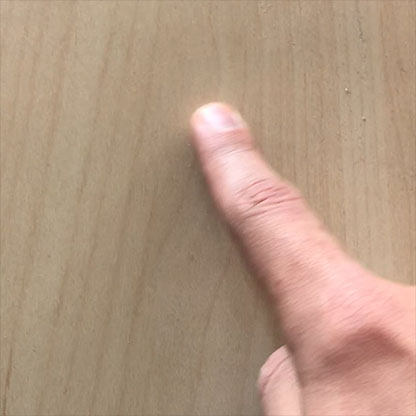fingertip: (179, 94, 259, 152)
